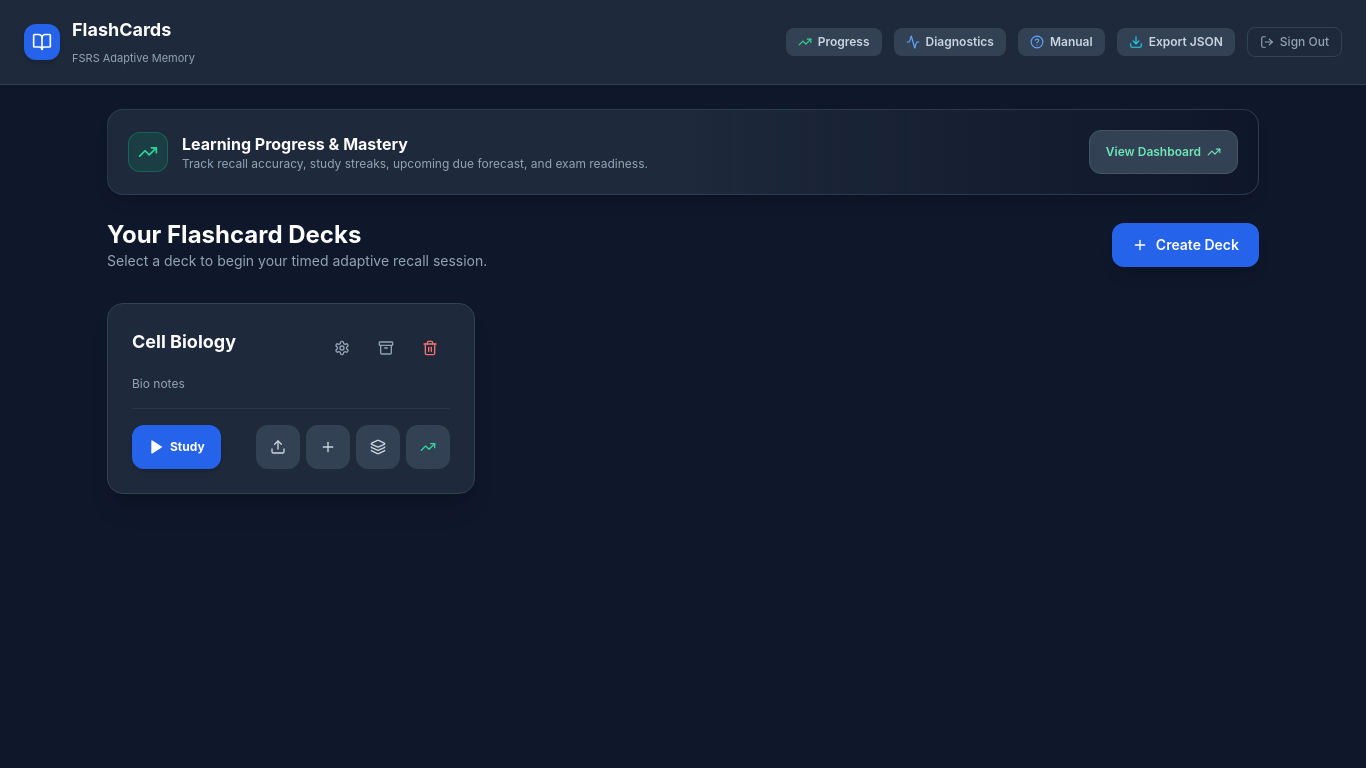
Test: App Shell (ARC-001..ARC-010, AUT-002, ARC-006) › DEK-004..008: Supports deck actions (manage cards, archive, study empty)
Check: the heading "Cell Biology" is shown, box [132, 331, 236, 352]
Toggle archive
Click the button named "archive or restore deck": (386, 348) [366, 328, 406, 368]
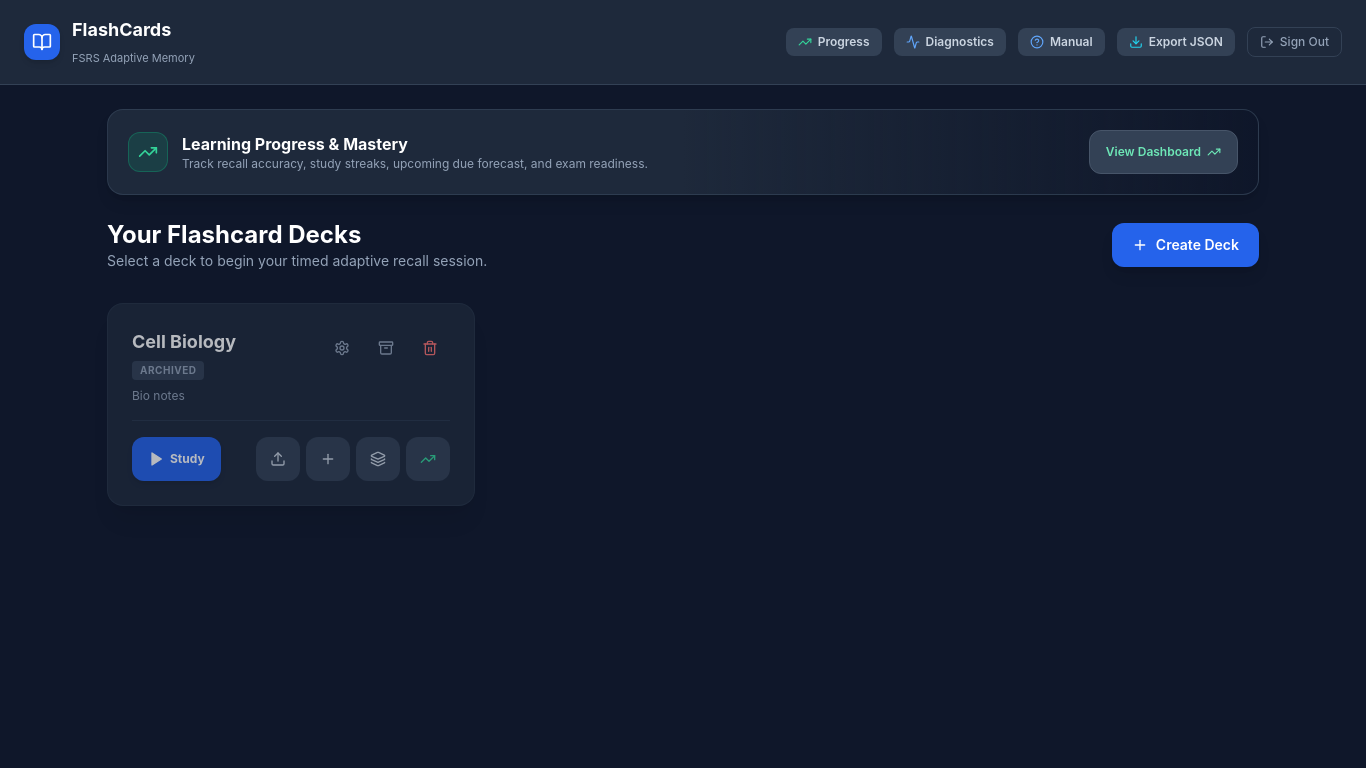
Click the button with aria-label "Study Cell Biology": (176, 459) [132, 437, 221, 481]
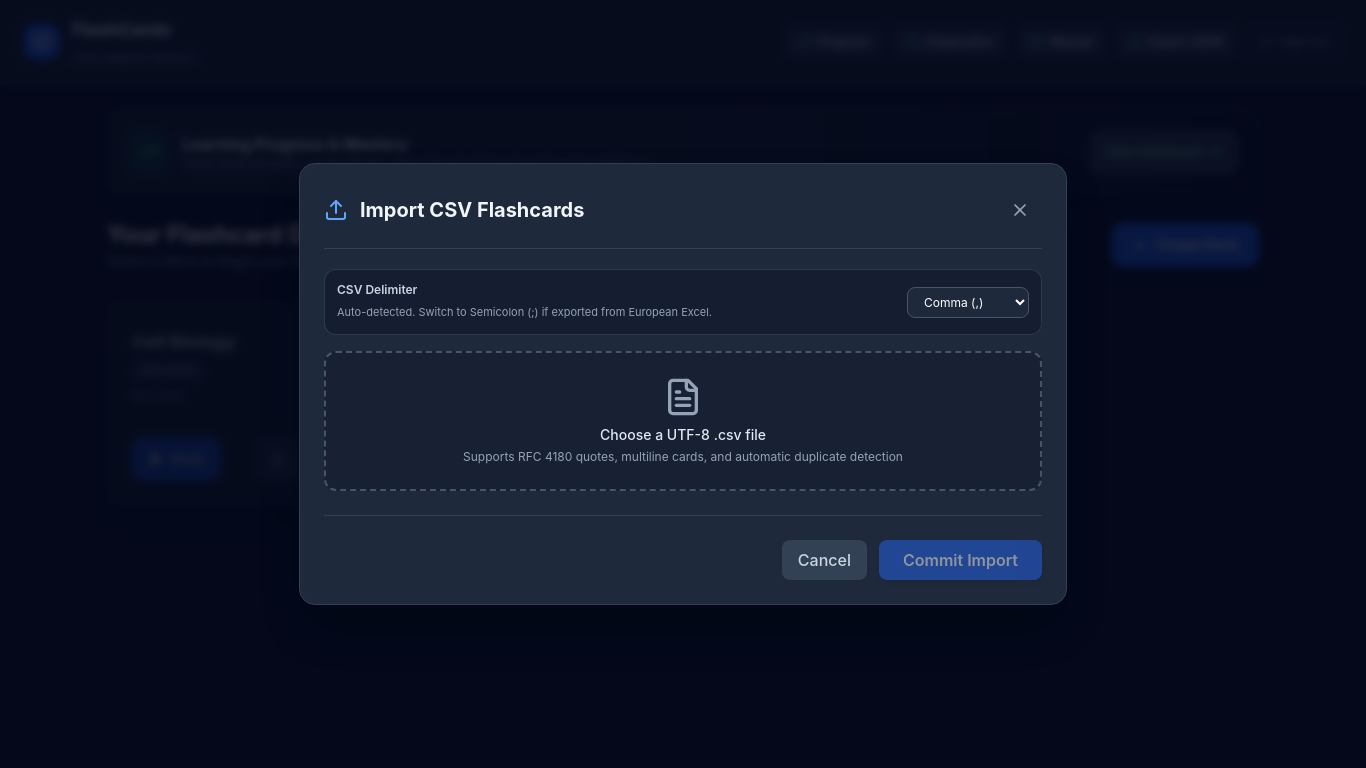
Check: the heading "Import CSV Flashcards" is shown, box [360, 196, 584, 224]
Close modal
Click the button named "close import dialog": (1020, 210) [998, 188, 1042, 232]
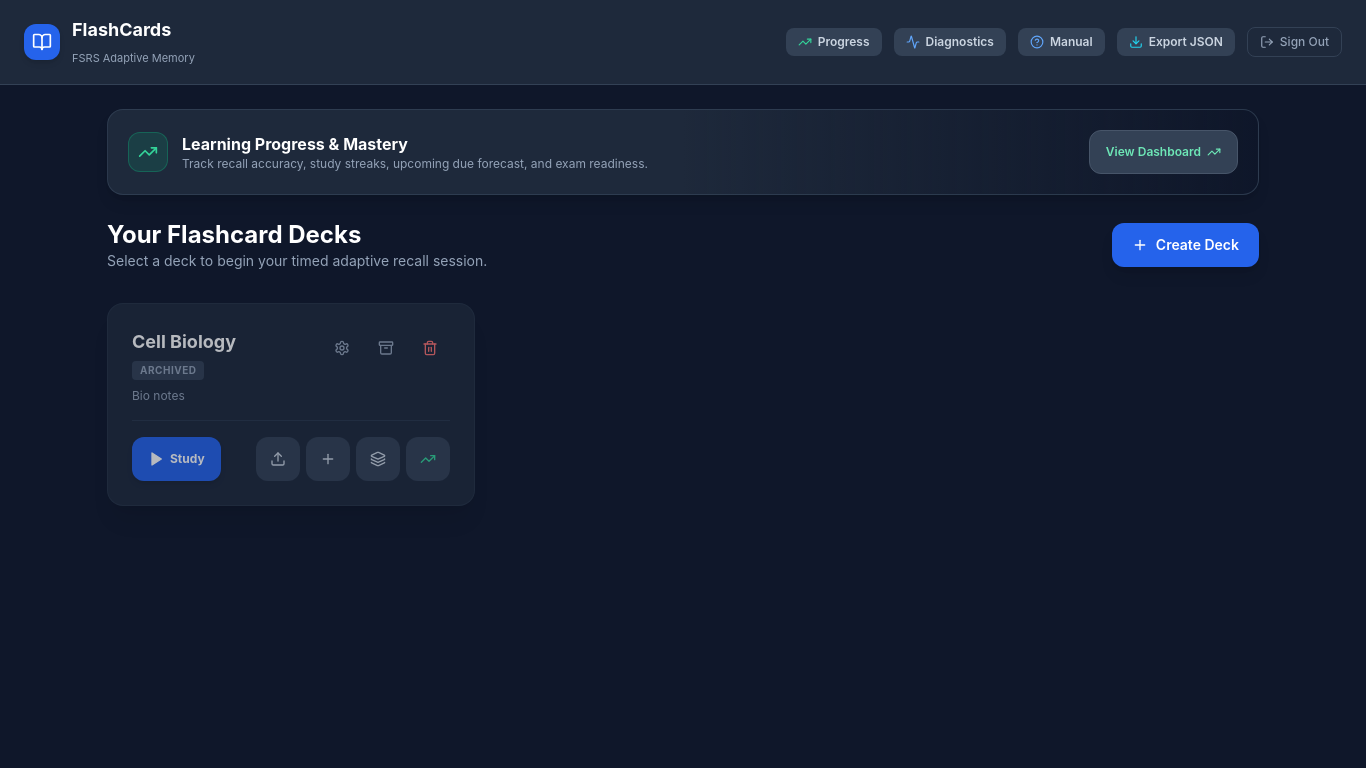
Manage cards action
Click the button named "manage cards": (378, 459) [356, 437, 400, 481]
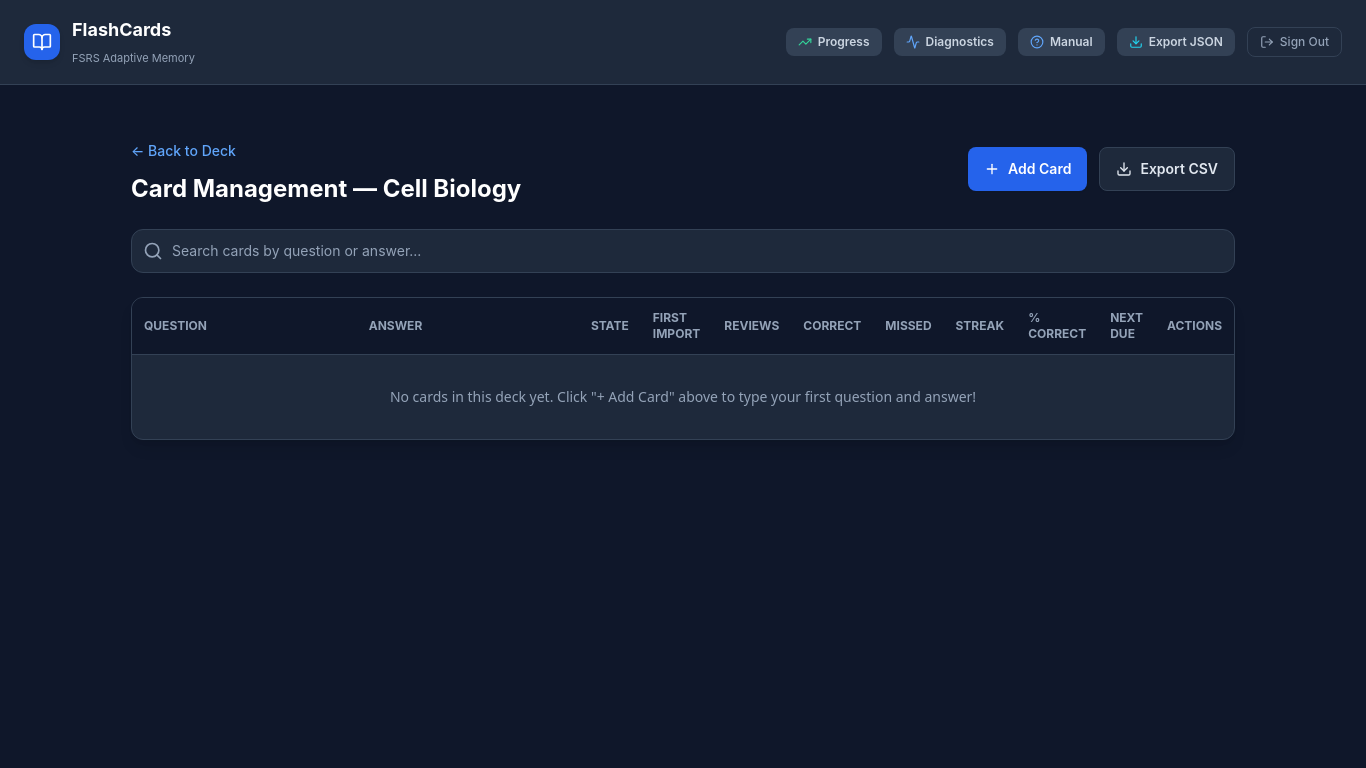
Check: the table is shown, box [132, 298, 1234, 439]
